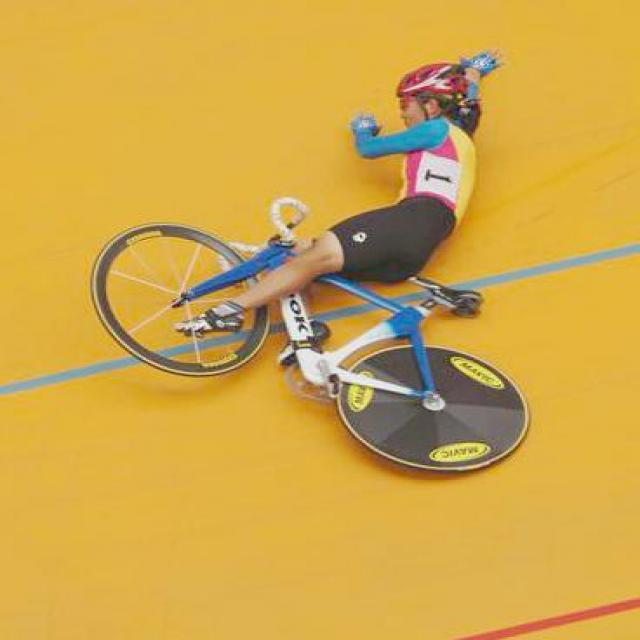fall: (180, 64, 492, 344)
